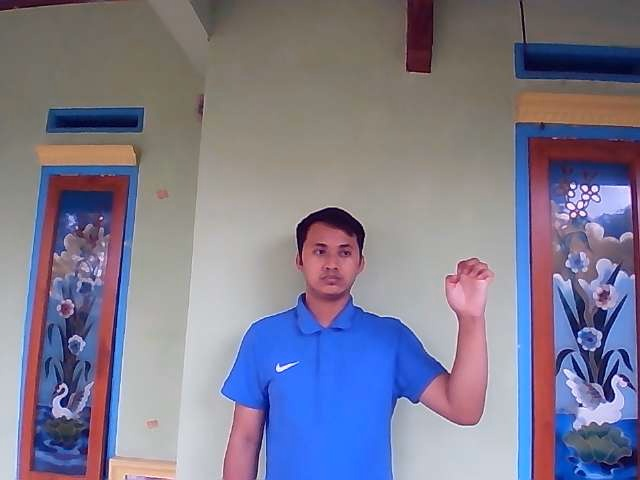E: (443, 256, 494, 319)
